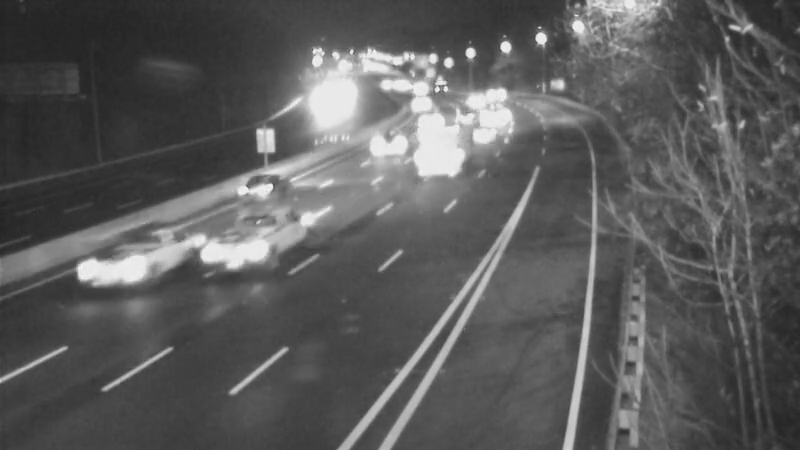vehicle: (396, 113, 476, 193), (222, 144, 302, 224), (197, 214, 277, 294), (78, 227, 158, 307), (397, 78, 447, 128), (436, 87, 486, 137), (467, 87, 517, 137), (401, 90, 451, 140), (459, 110, 509, 160), (356, 121, 406, 171)
